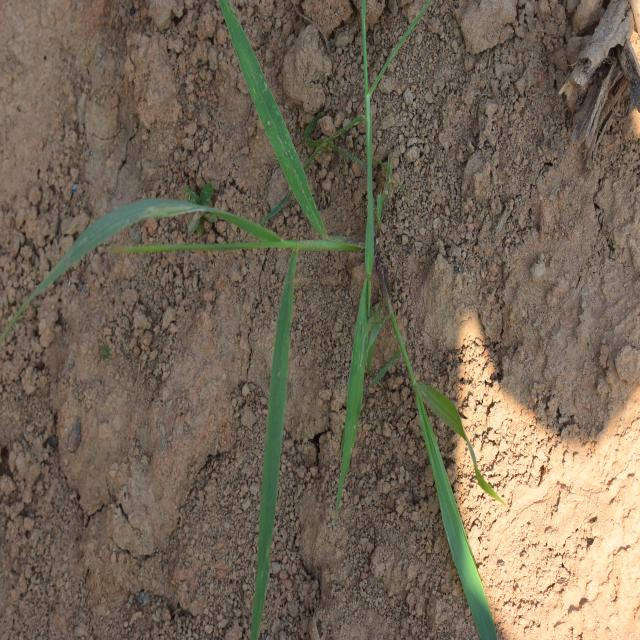green_foxtail: (70, 80, 377, 467), (348, 268, 504, 610)
